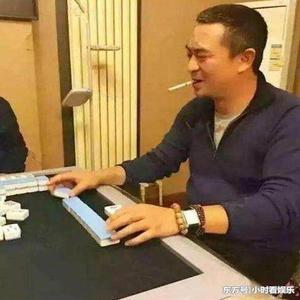cigarette: (164, 80, 197, 91)
